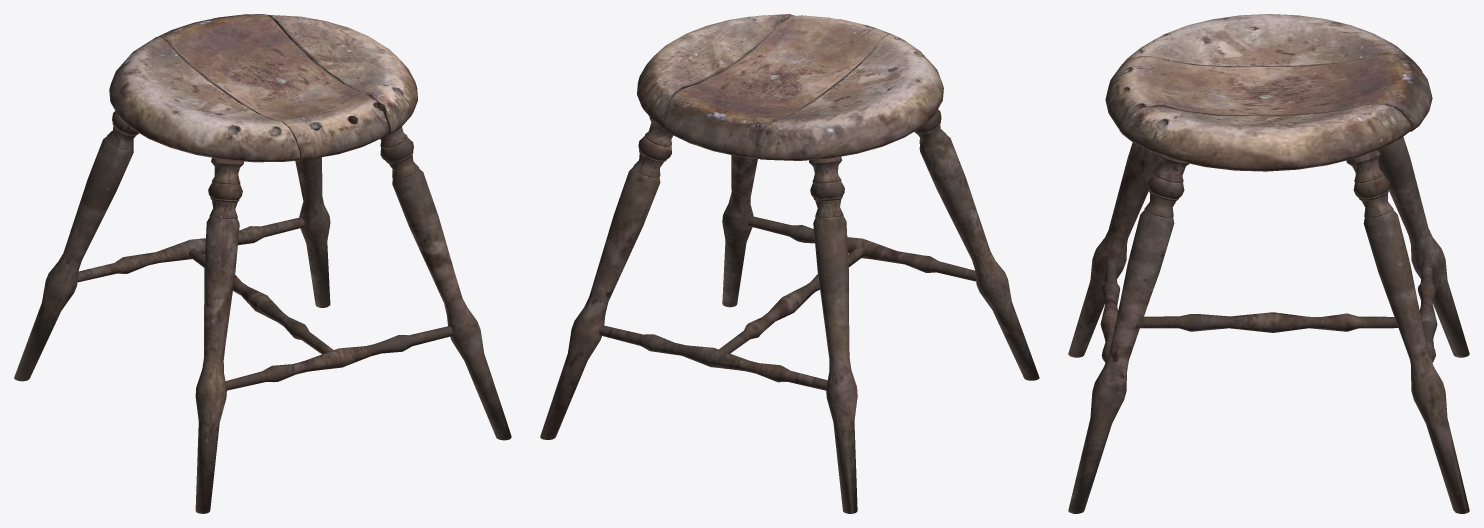
The model's file is wooden_stool_01.glb.
The picture shows the model from 3 angles, left to right: view 1: azimuth 30°, elevation 25°; view 2: azimuth 150°, elevation 25°; view 3: azimuth 270°, elevation 25°; orthographic projection. The views are drawn at different scales.
Visible parts, largest first — view 1: wooden_stool_01; view 2: wooden_stool_01; view 3: wooden_stool_01.
Part boxes in pixels (x1=…): wooden_stool_01: x1=14, y1=14, x2=511, y2=513; wooden_stool_01: x1=540, y1=14, x2=1039, y2=513; wooden_stool_01: x1=1068, y1=14, x2=1469, y2=513.
Bounding box in the file's own units: 0.4246 × 0.4365 × 0.4417.
Materials: 1 (1 with a texture image).
